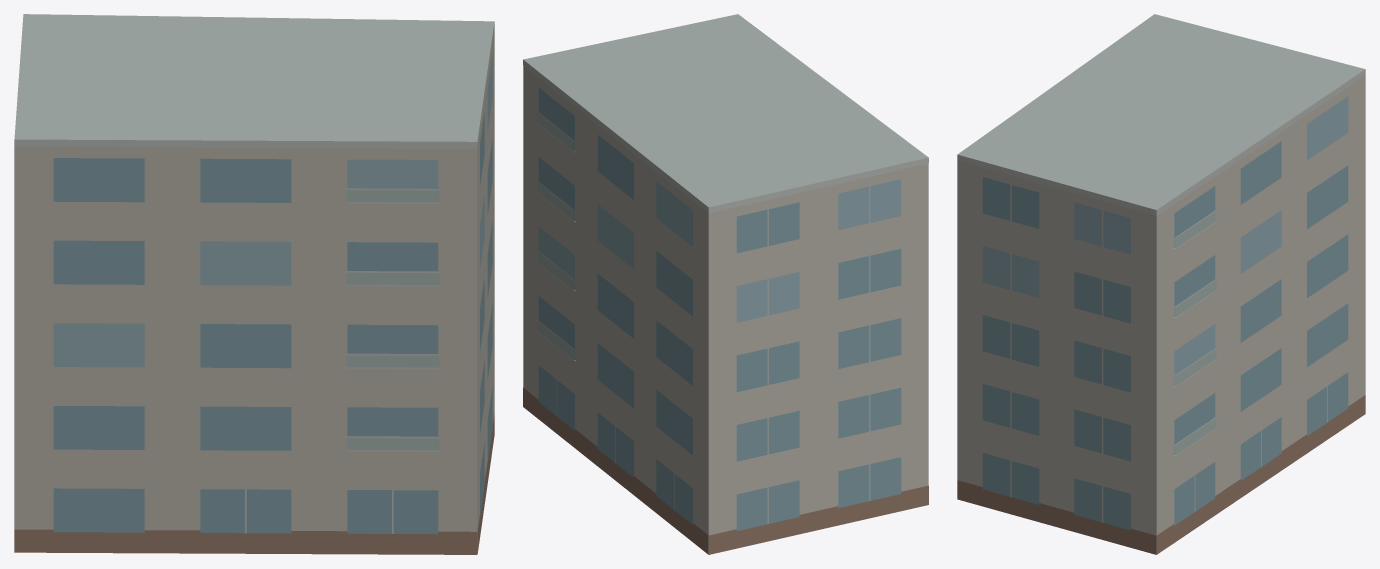
Rendered from survey-upis-32954976.glb.
3 renders of one model, left to right at view 1: azimuth 30°, elevation 25°; view 2: azimuth 150°, elevation 25°; view 3: azimuth 270°, elevation 25°, orthographic. The views are drawn at different scales.
Parts seen in each view (by area): view 1: survey-upis-32954976.tmp; view 2: survey-upis-32954976.tmp; view 3: survey-upis-32954976.tmp.
Part boxes in pixels (x1,y1,x2,y2): survey-upis-32954976.tmp: (14,14,494,554); survey-upis-32954976.tmp: (523,14,928,554); survey-upis-32954976.tmp: (957,14,1365,554).
Size of the model in its own units: 17.36 by 14.23 by 15.28.
